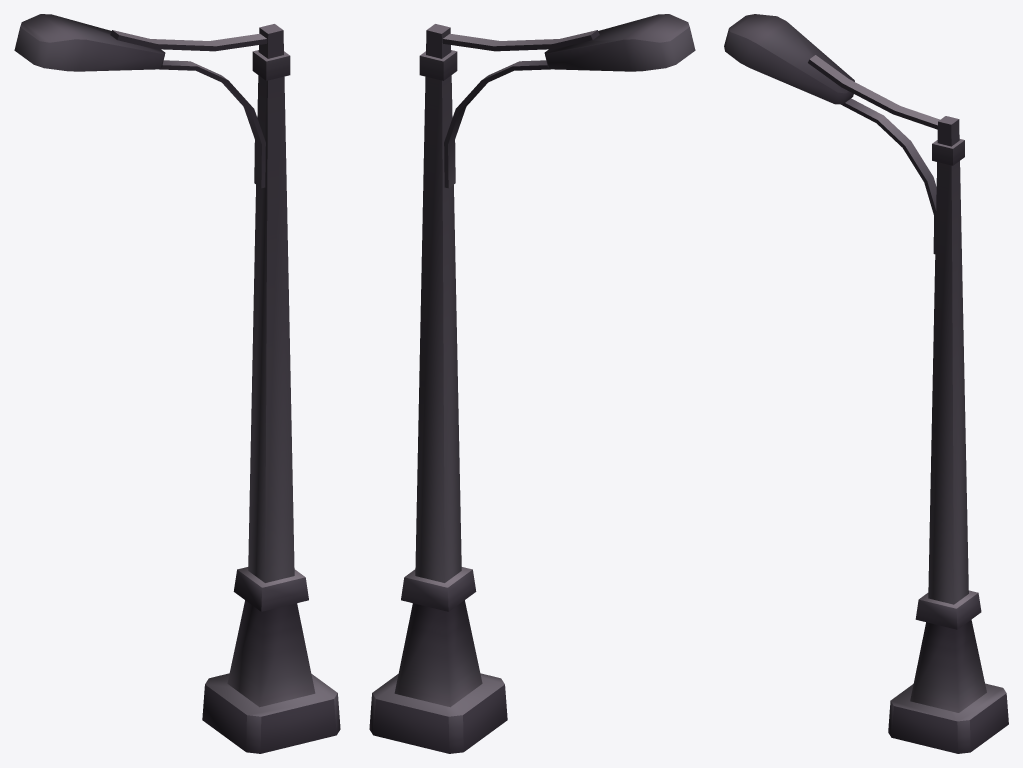
Rendered from Streetlight_2A.fbx.
The picture shows the model from 3 angles, left to right: view 1: azimuth 30°, elevation 25°; view 2: azimuth 150°, elevation 25°; view 3: azimuth 330°, elevation 25°; orthographic projection. The views are drawn at different scales.
Parts seen in each view (by area): view 1: Streetlight_2A; view 2: Streetlight_2A; view 3: Streetlight_2A.
Boxes of the visible parts, <box> form: Streetlight_2A: <box>14,14,340,753</box>; Streetlight_2A: <box>369,14,695,753</box>; Streetlight_2A: <box>724,14,1008,753</box>.
Bounding box in the file's own units: 340 × 829 × 109.
